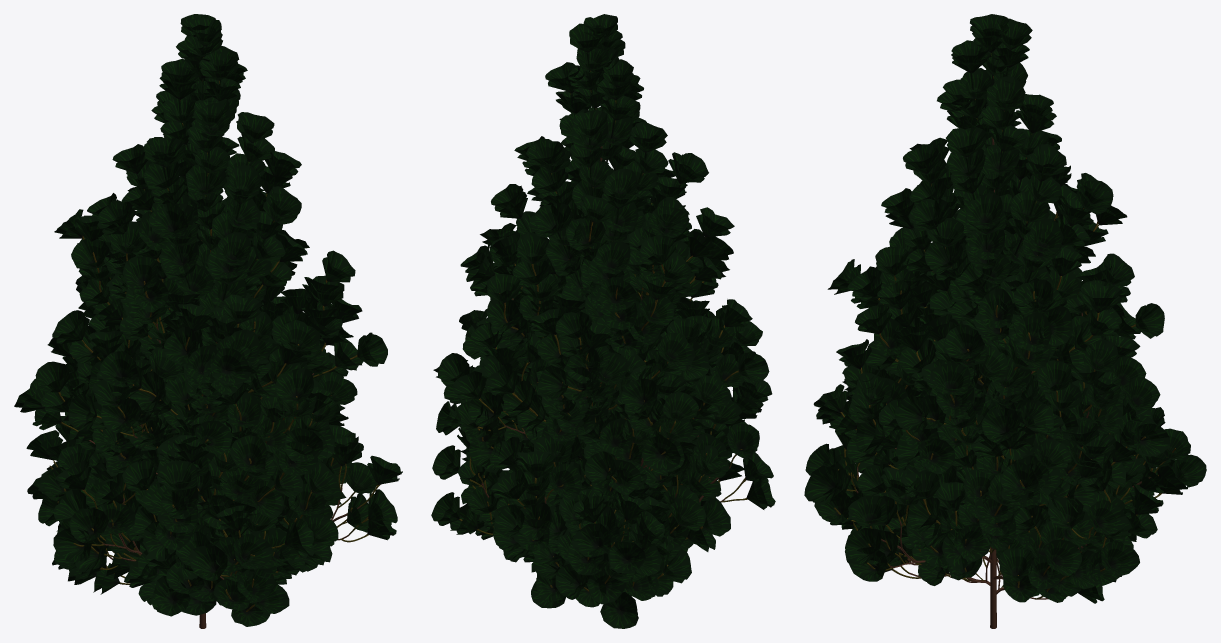
File: tree.glb
3 views of the same model, side by side, from view 1: azimuth 30°, elevation 25°; view 2: azimuth 150°, elevation 25°; view 3: azimuth 270°, elevation 25° (orthographic). The views are drawn at different scales.
Parts seen in each view (by area): view 1: AM219_032; view 2: AM219_032; view 3: AM219_032.
Boxes of the visible parts, x1,y1,x2,y2 form: AM219_032: [14, 14, 402, 628]; AM219_032: [431, 14, 775, 628]; AM219_032: [804, 14, 1206, 628].
Bounding box in the file's own units: 1.06 × 1.93 × 1.16.
Materials: 3 (2 with a texture image).
